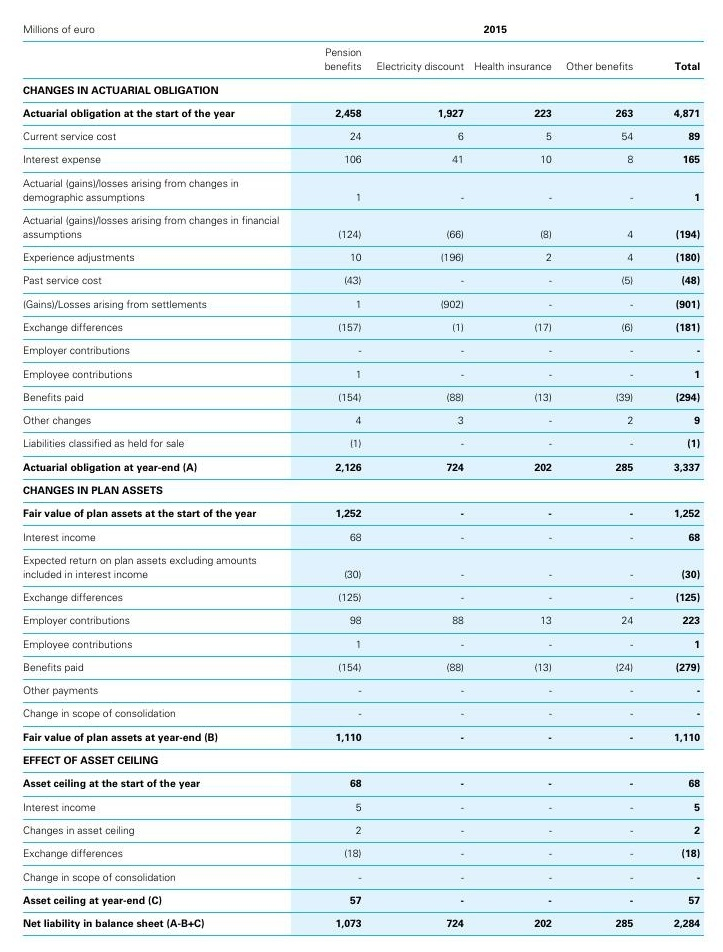table: (0, 0, 723, 952)
